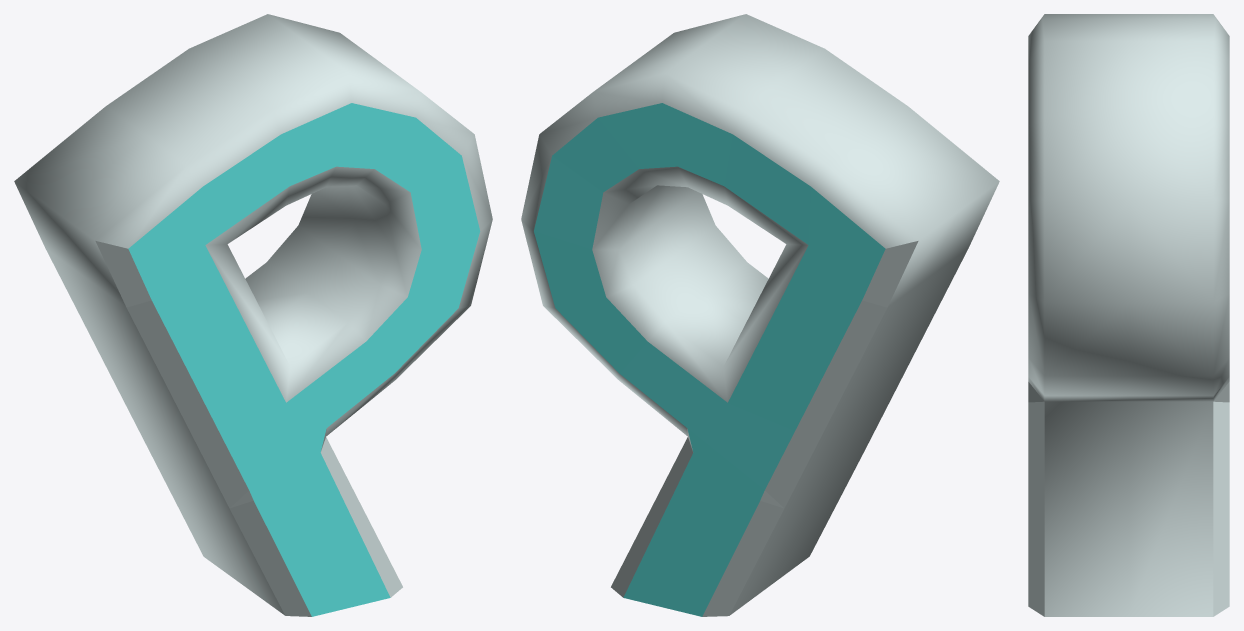
File: shop_3d_102.fbx
3 views of the same model, side by side, from view 1: azimuth 30°, elevation 25°; view 2: azimuth 150°, elevation 25°; view 3: azimuth 270°, elevation 25° (orthographic). The views are drawn at different scales.
Visible parts, largest first — view 1: Cube; view 2: Cube; view 3: Cube.
Boxes of the visible parts, x1=… form: Cube: x1=14, y1=14, x2=492, y2=616; Cube: x1=521, y1=14, x2=999, y2=616; Cube: x1=1028, y1=14, x2=1229, y2=616.
Size of the model in its own units: 4.76 by 6.03 by 2.01.
